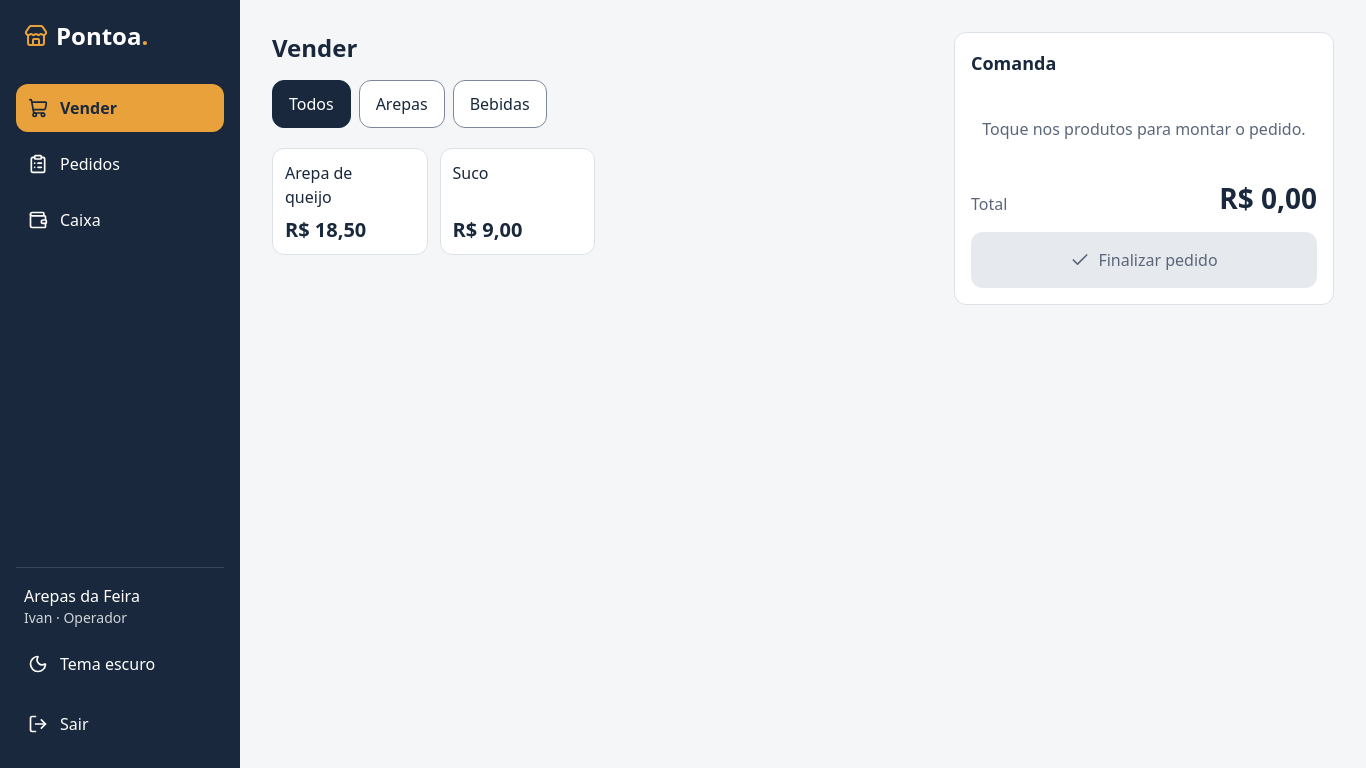
Scenario: PosPage › creates the order and opens the payment
Click the button "Arepa de queijo R$ 18,50".
click(350, 202)  # box [272,148,428,255]
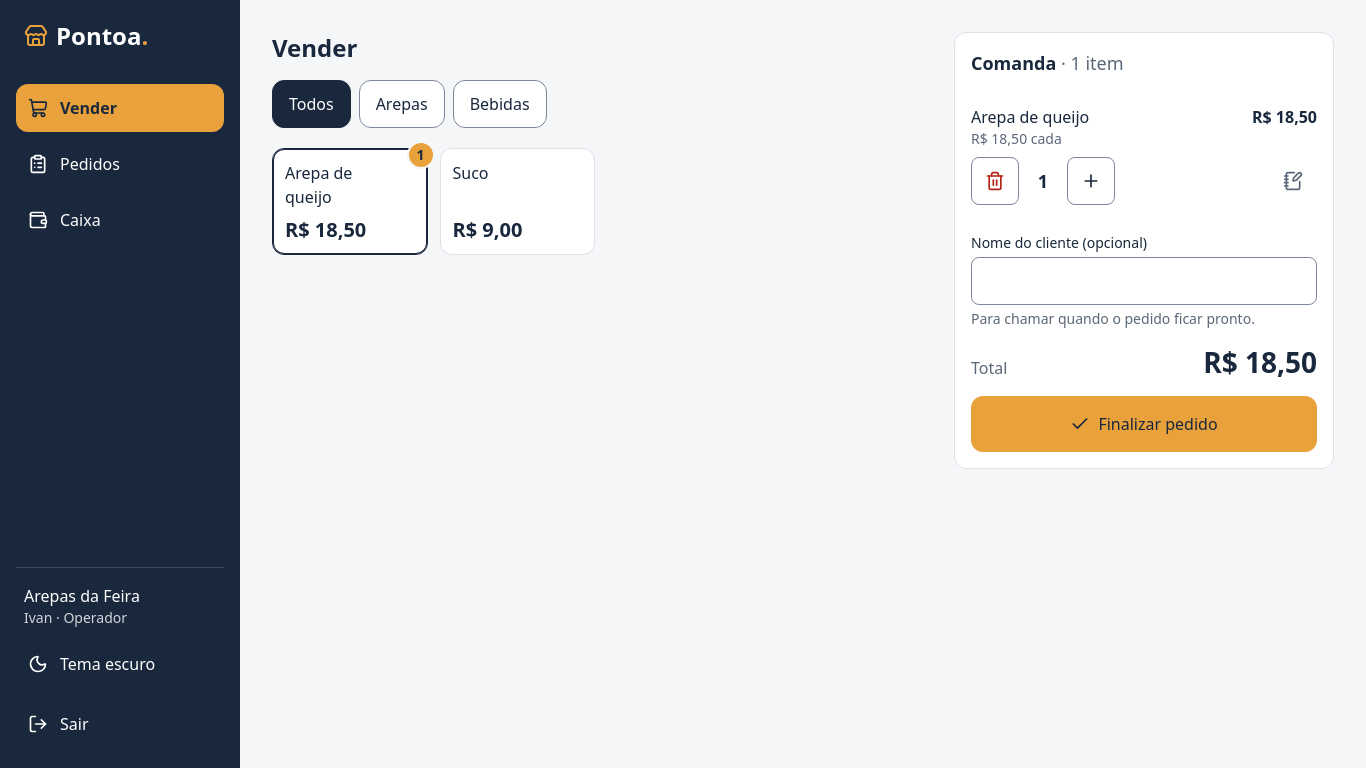
Click the button named "Adicionar observação a Arepa de queijo".
click(1293, 181)  # box [1269,157,1317,205]
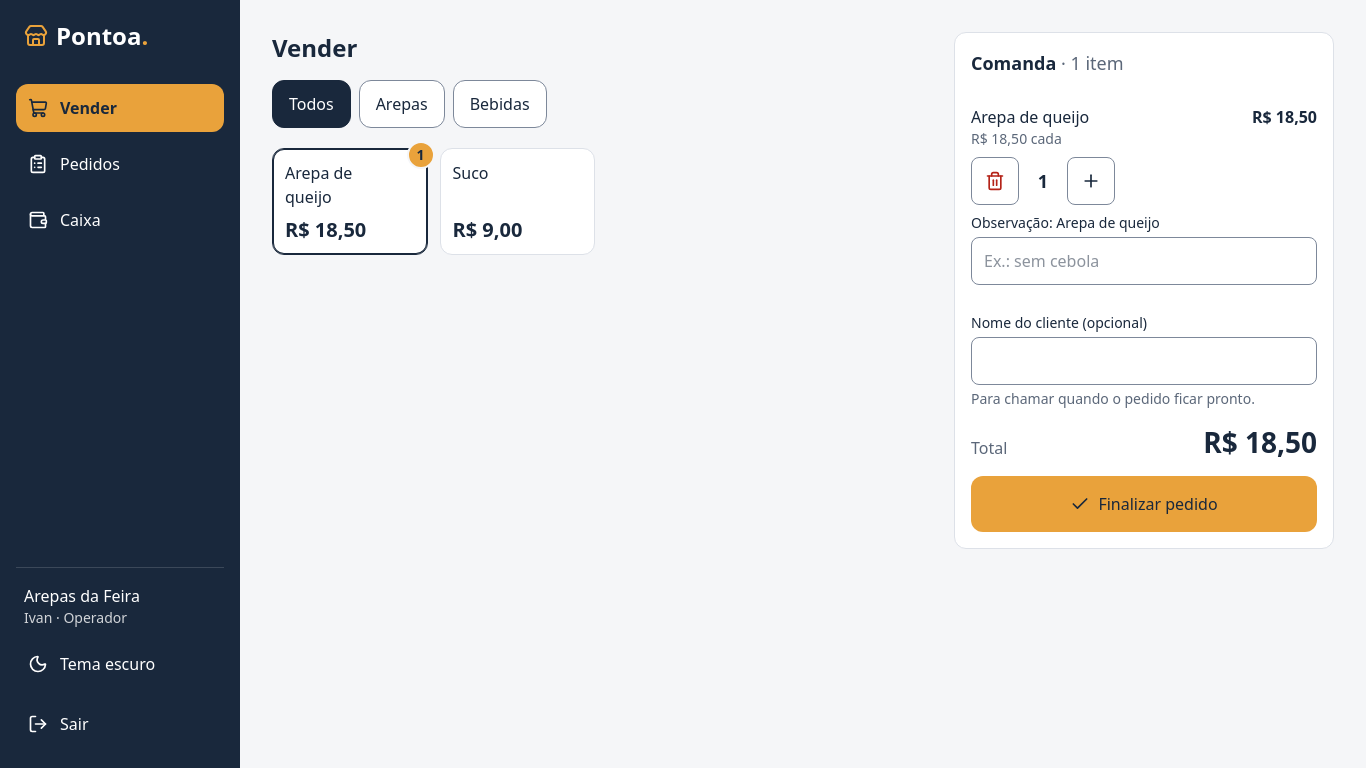
Type " sem cebola " into the field labelled "Observação: Arepa de queijo".
click(1144, 261); type(" sem cebola ")  # box [971,237,1317,285]
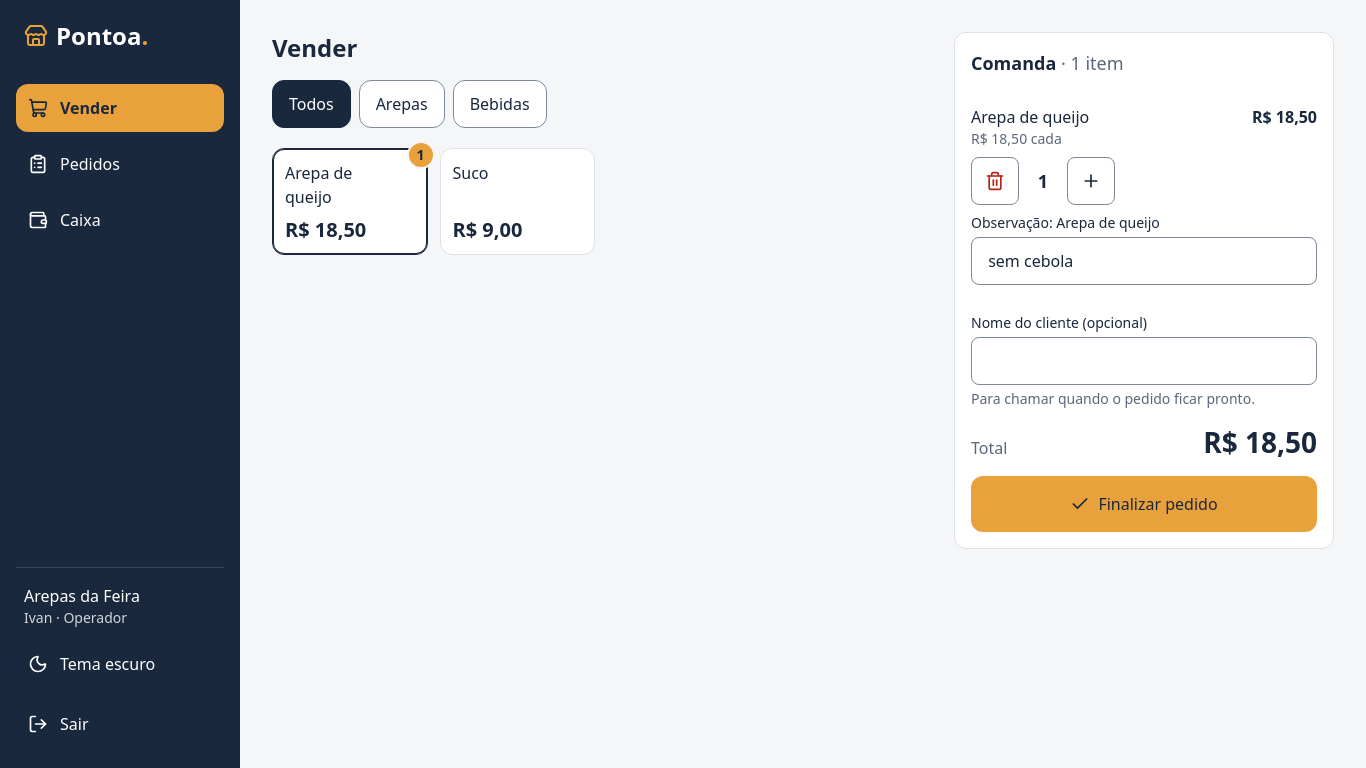
Type "Ana" into the field labelled "Nome do cliente (opcional)".
click(1144, 361); type("Ana")  # box [971,337,1317,385]
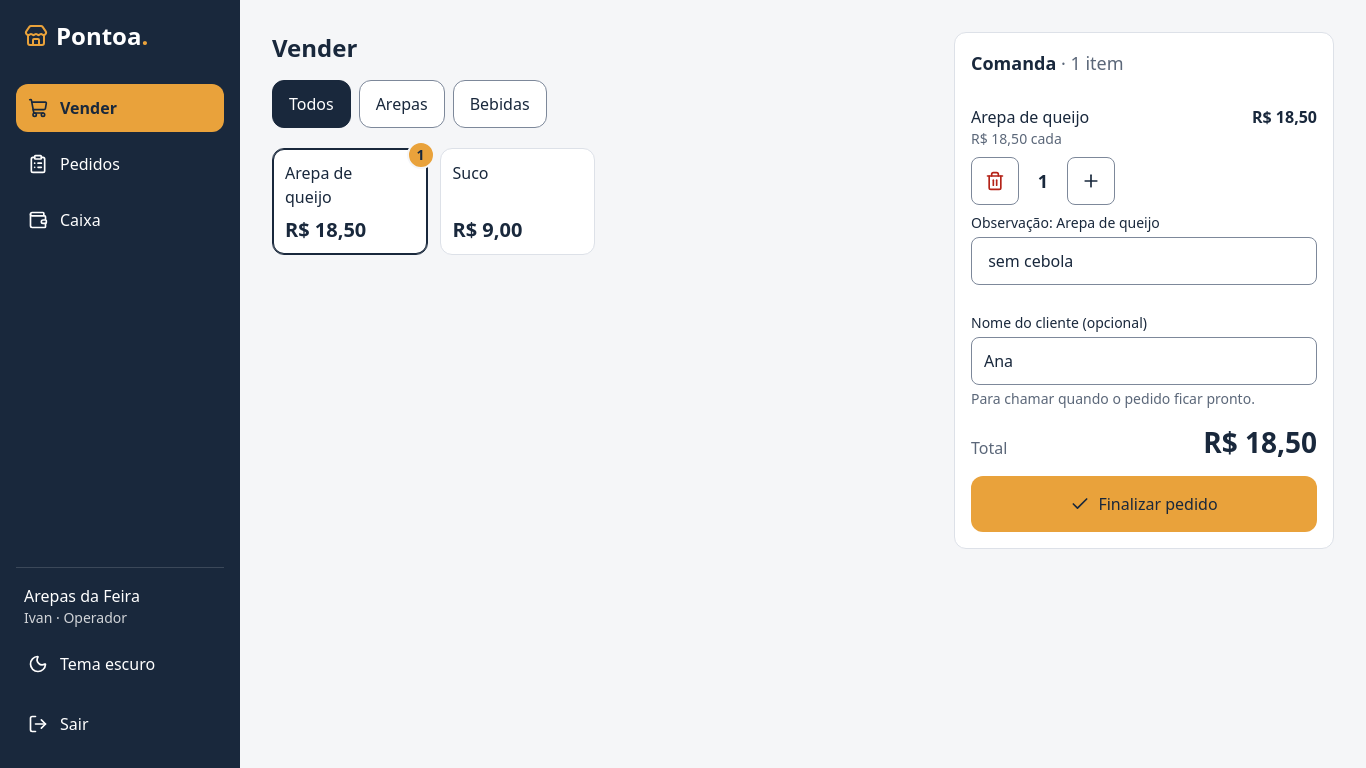
Click the button "Finalizar pedido".
click(1144, 504)  # box [971,476,1317,532]
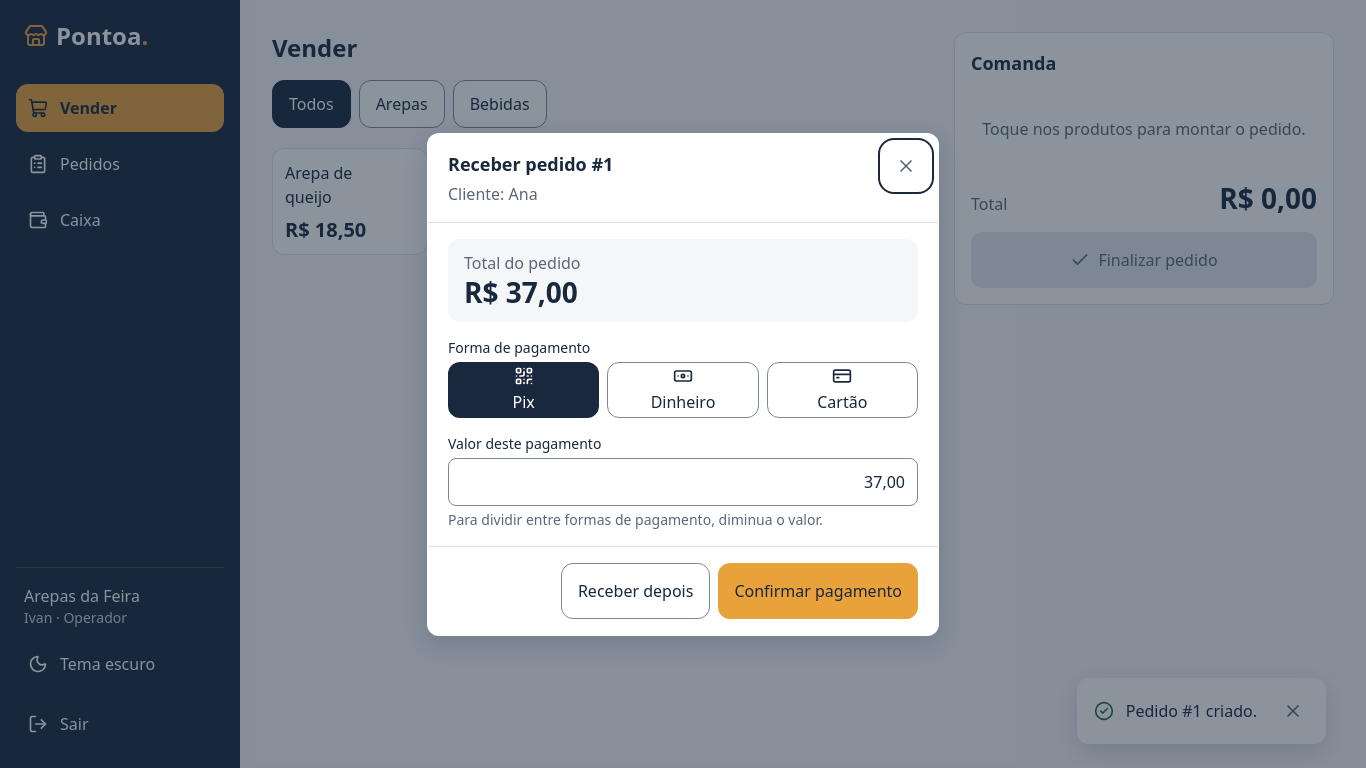
Result: the dialog "Receber pedido #1" is shown at [427,132,939,636]
Result: the text "Toque nos produtos para montar o pedido." is shown at [982,118,1306,140]
